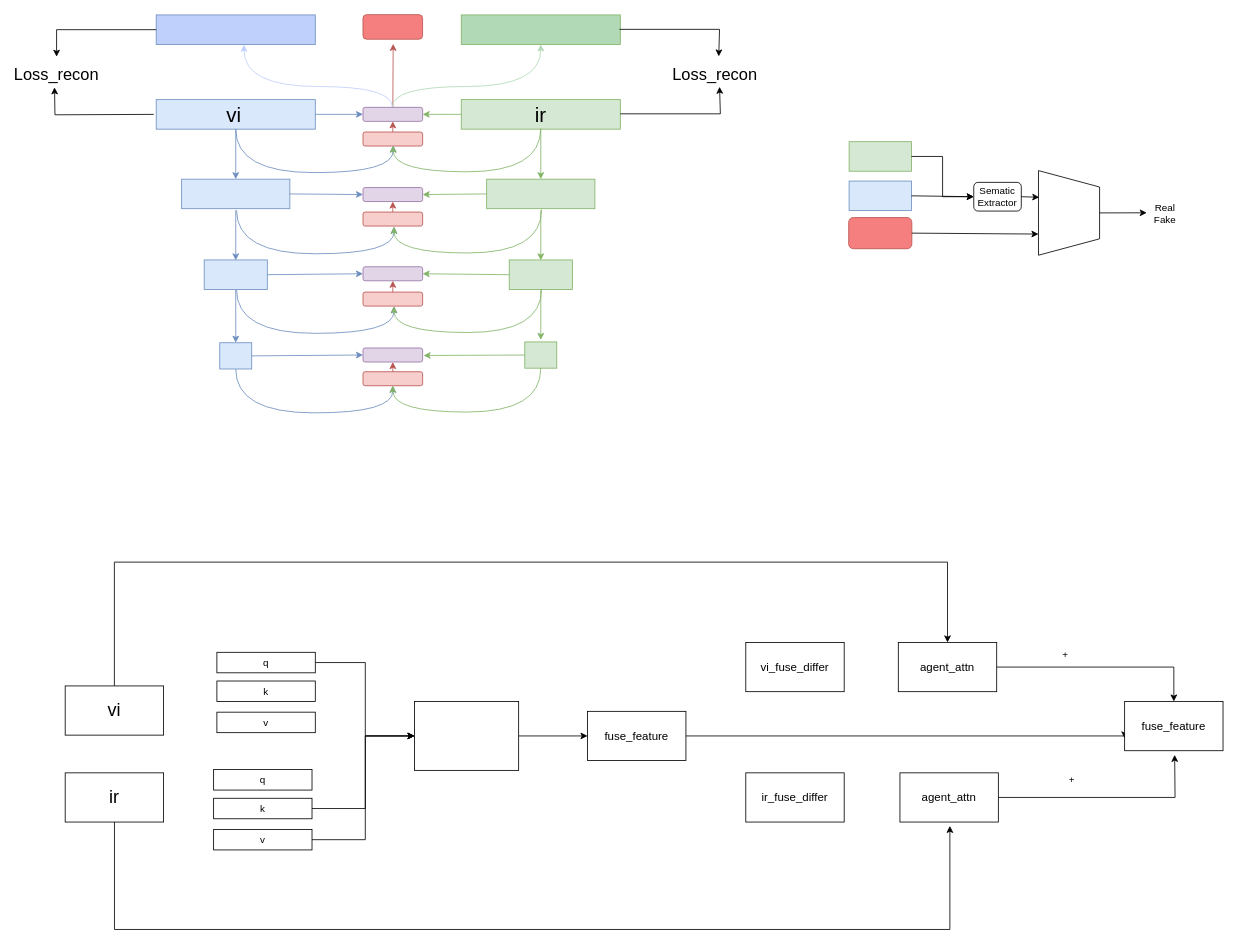
Image size: 1237x950. Some labels were removed from this diagram. Here are the shapes that lost their labels. From the top down, the centre of each, then its label:
(235,29): vi_recon
(540,29): ir_recon
(1069,212): Sematic Discriminator
(466,735): cross_agent_attn
